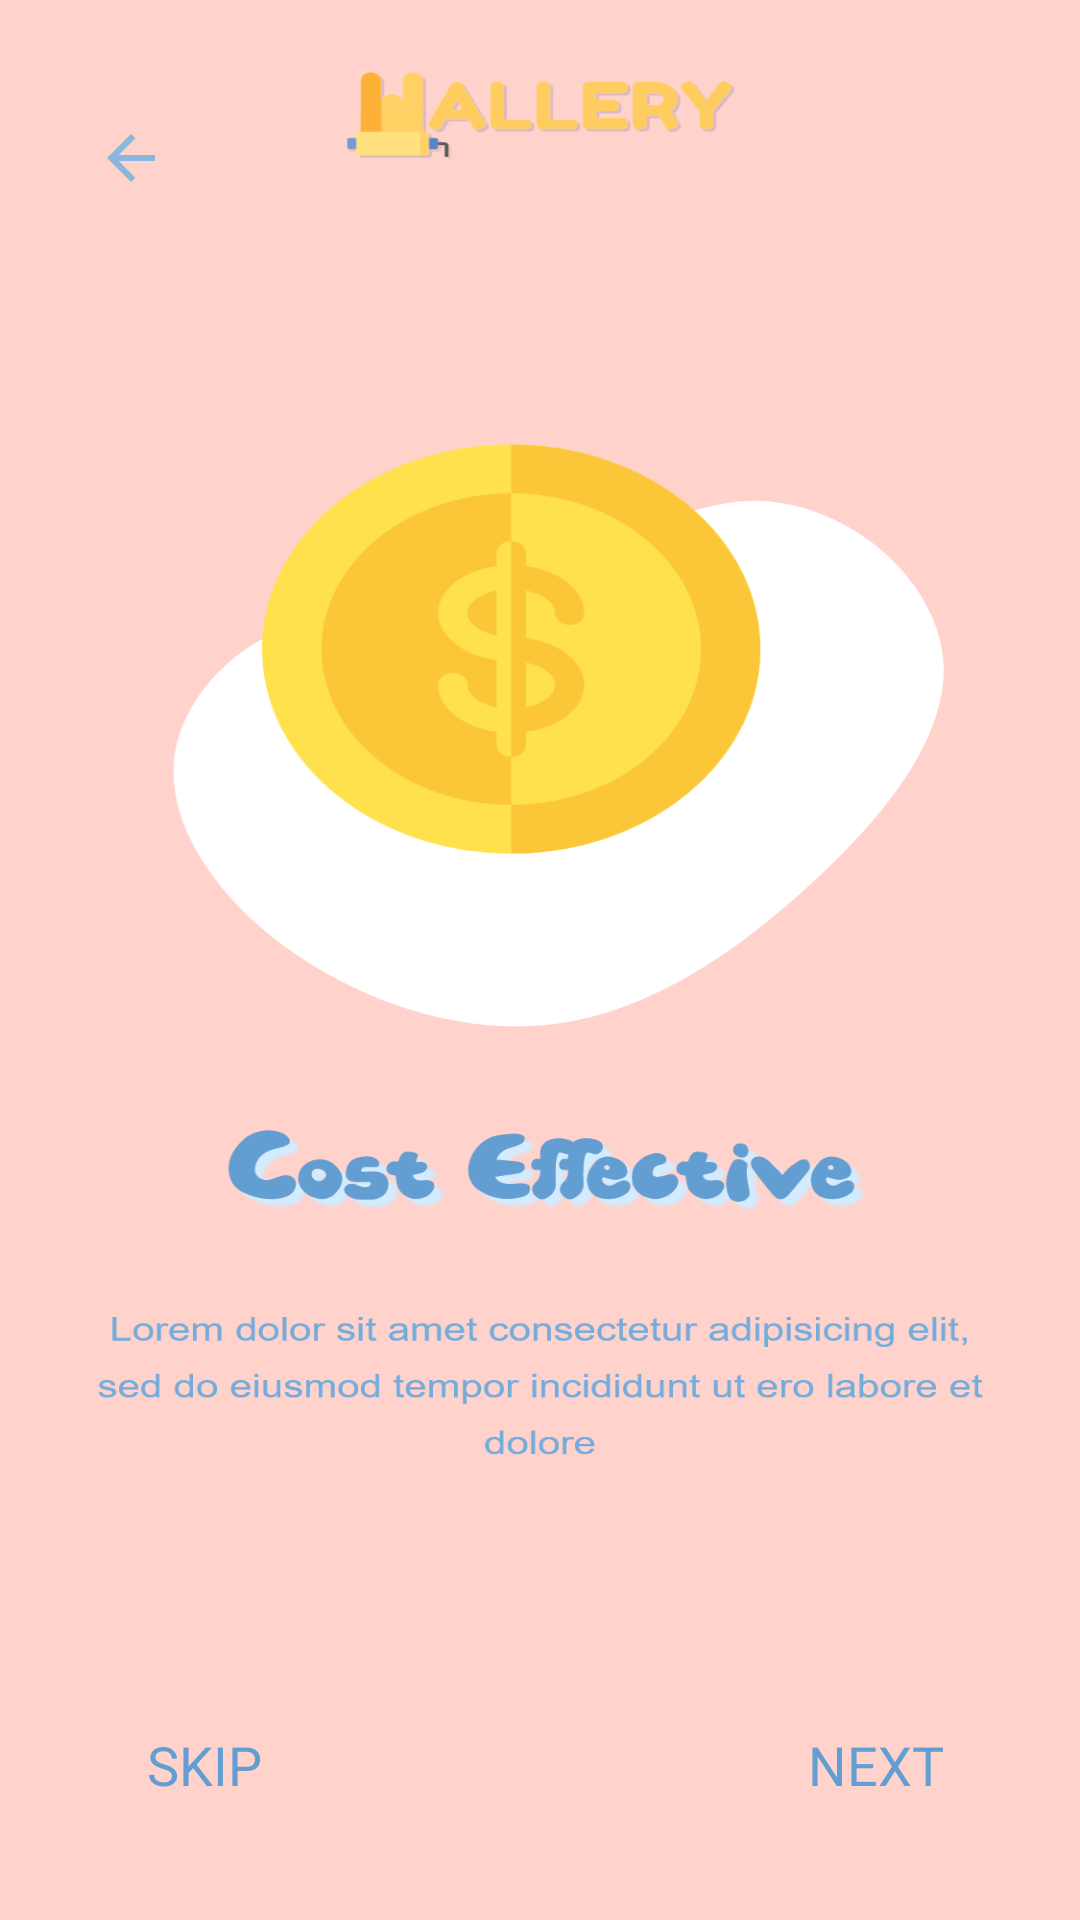

Icons on this 1080*1920 Android screen, each with the point to tap as (x,y):
backbtn: (131,158)
